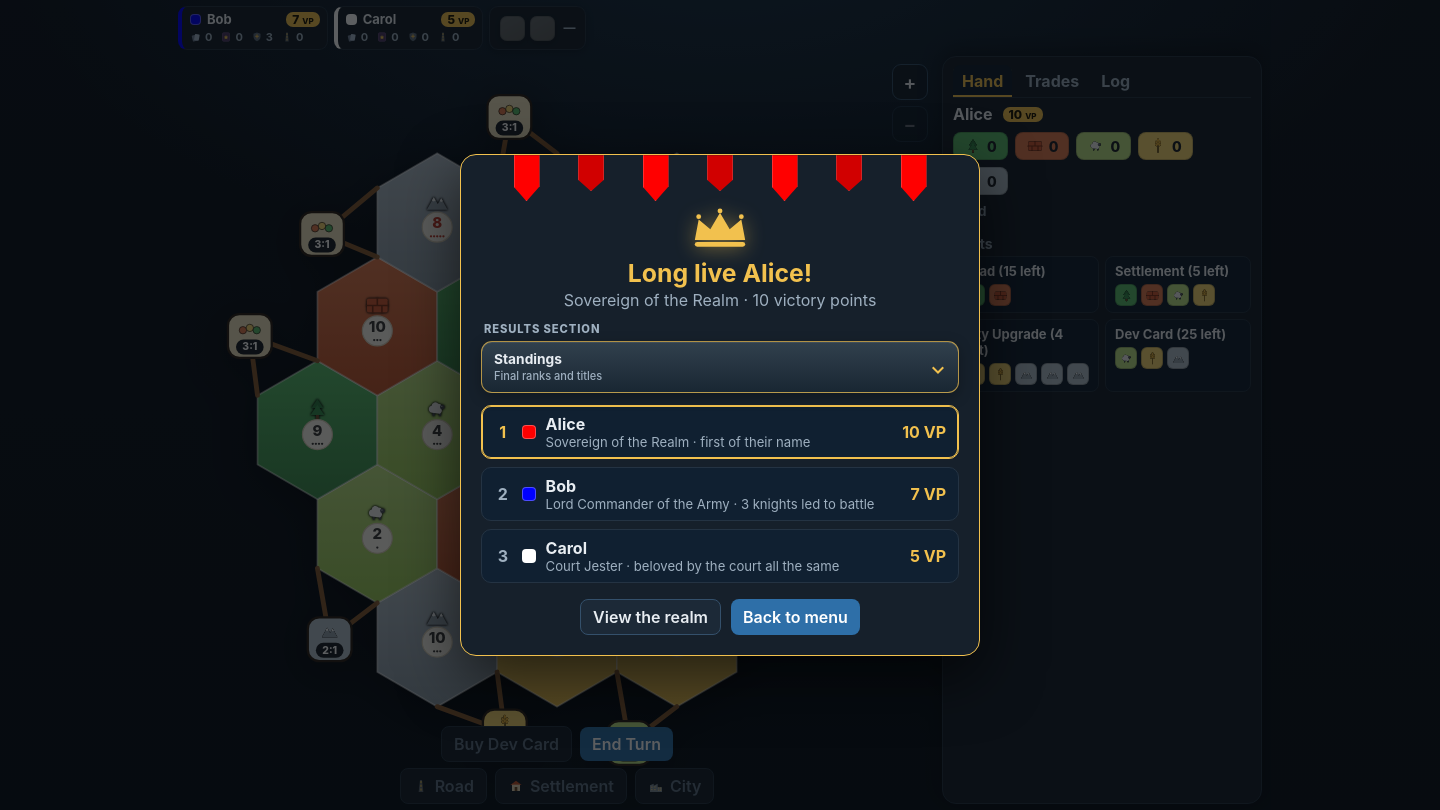
Test case: shows a resources-over-time graph of gains minus steals
What coordinates should you click on to do the following:
click the button with aria-label "results section: standings"
I would click on:
 (528, 359)
Its box is [481, 341, 959, 393].
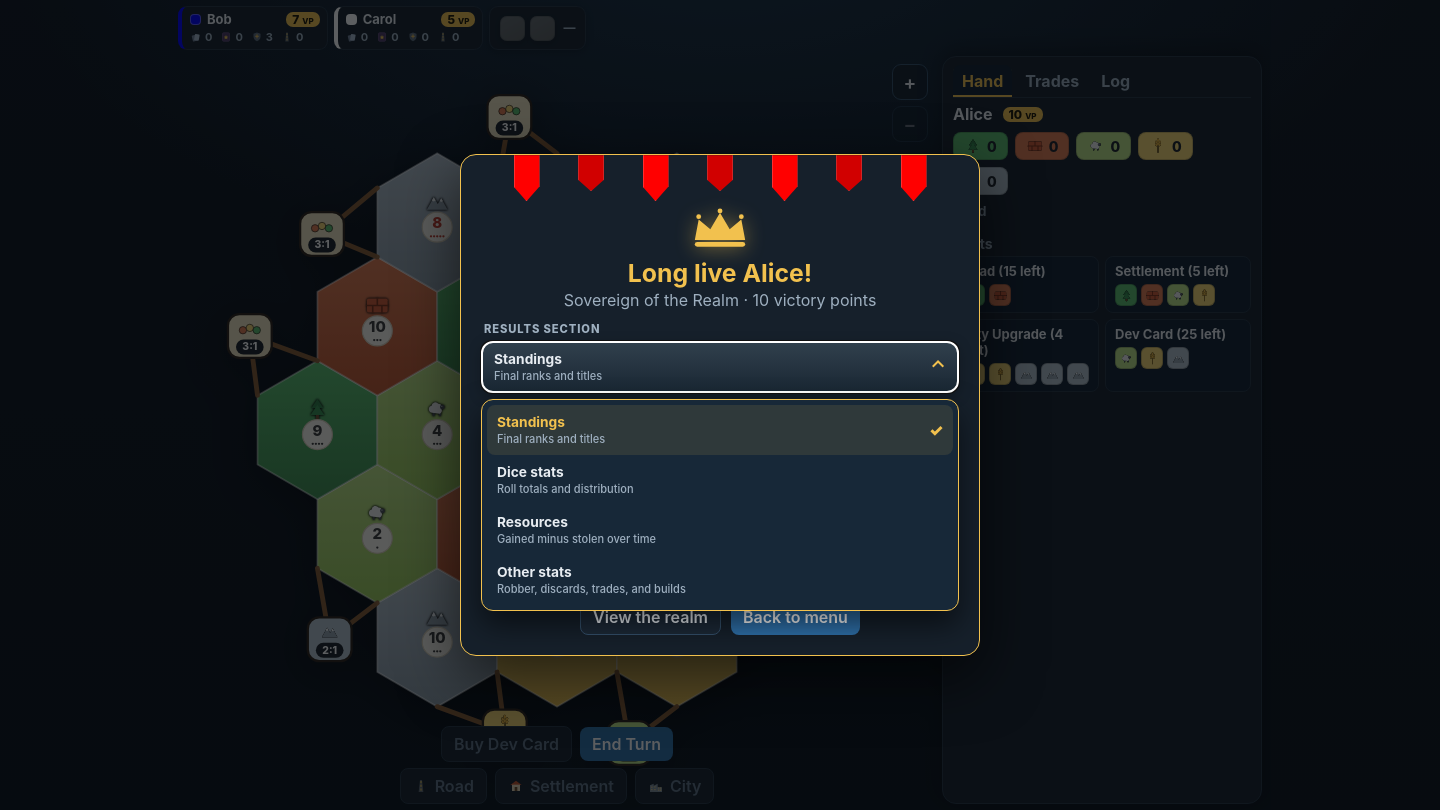
What coordinates should you click on to do the following:
click the option "Resources Gained minus stolen over time"
I would click on:
 (532, 522)
Its box is [487, 505, 953, 555].
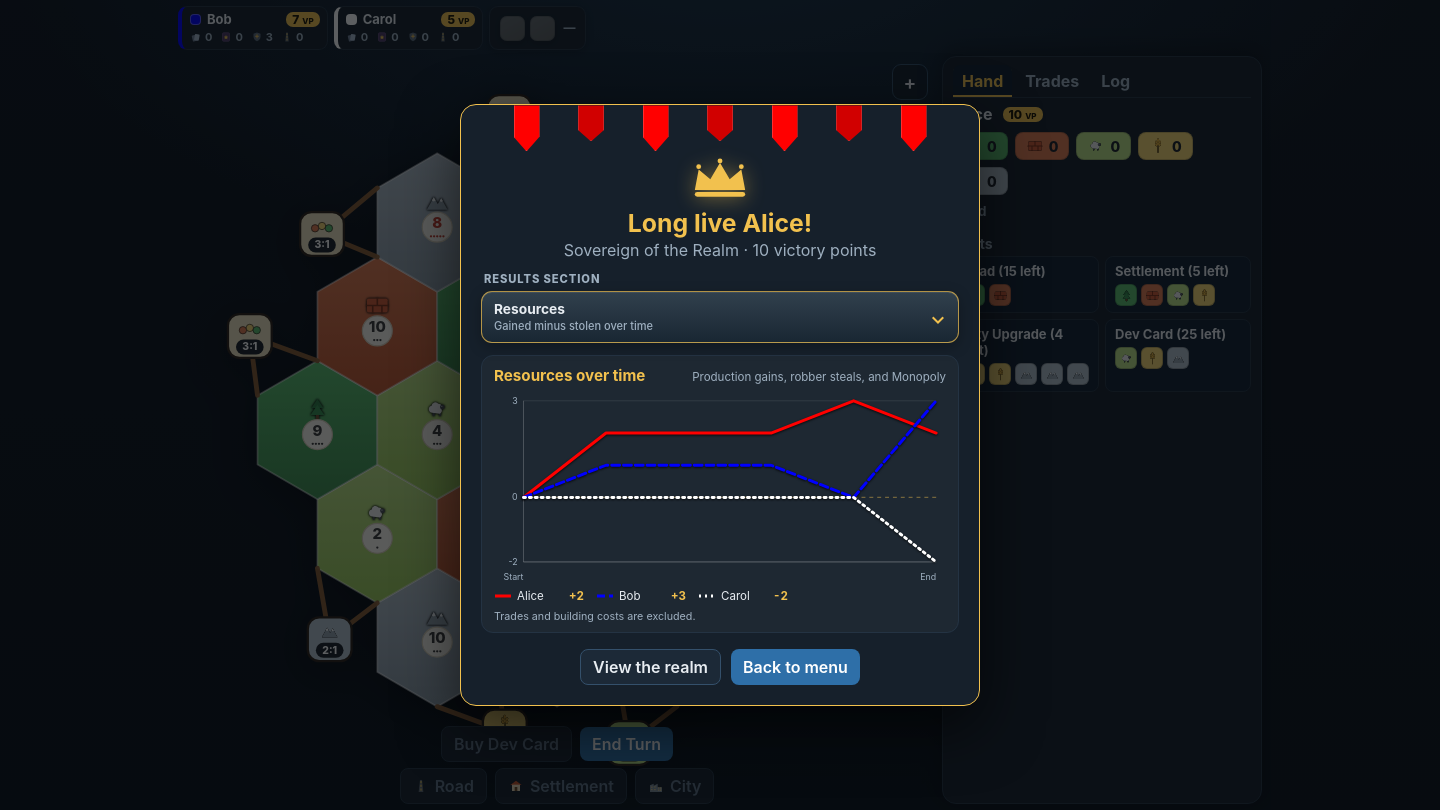
expect the element "Resources over time" shows "Production gains, robber steals, and Monopoly": met, box [692, 370, 946, 384]
expect the picture named "resources gained minus stolen over time" is shown: met, box [494, 389, 946, 586]
expect the list item with aria-label "Alice: 2 net resources" is shown: met, box [494, 589, 584, 603]
